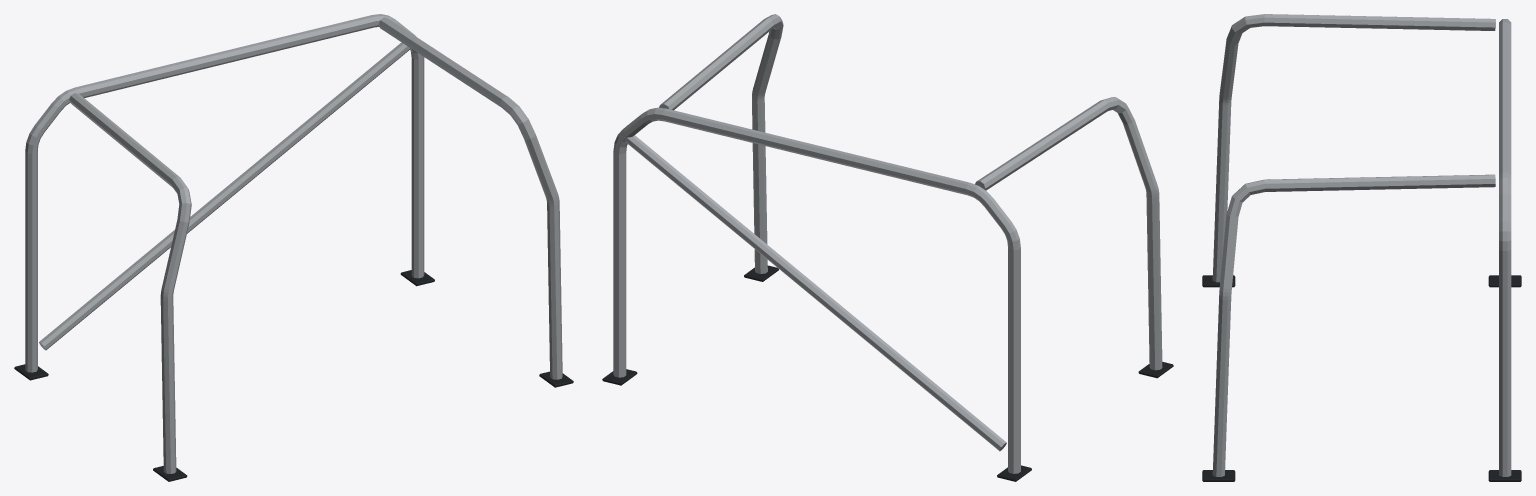
Rendered from hana_roadster.glb.
3 renders of one model, left to right at view 1: azimuth 30°, elevation 25°; view 2: azimuth 150°, elevation 25°; view 3: azimuth 270°, elevation 25°, orthographic. The views are drawn at different scales.
Visible parts, largest first — view 1: model; view 2: model; view 3: model.
Part boxes in pixels (x1,y1,x2,y2): model: [14, 14, 573, 481]; model: [602, 14, 1173, 481]; model: [1202, 14, 1521, 481].
Size of the model in its own units: 1.47 by 0.9499 by 0.97.
Materials: 2 (1 with a texture image).
